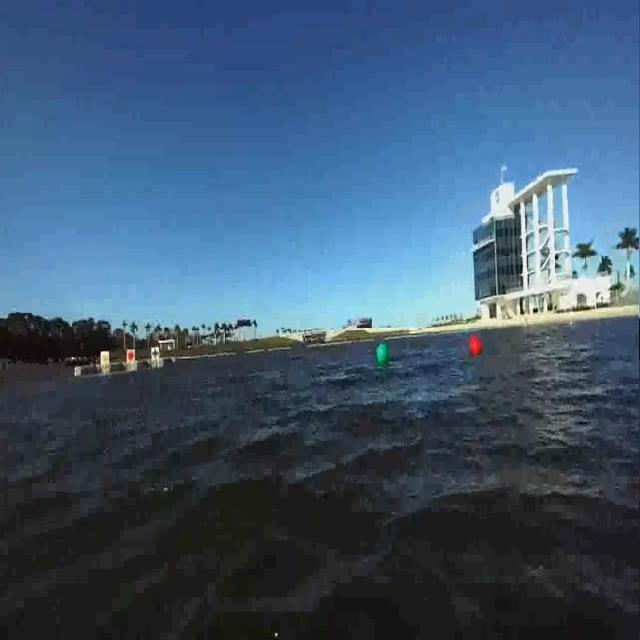green-buoy: (376, 343, 391, 366)
red-buoy: (471, 336, 485, 358)
